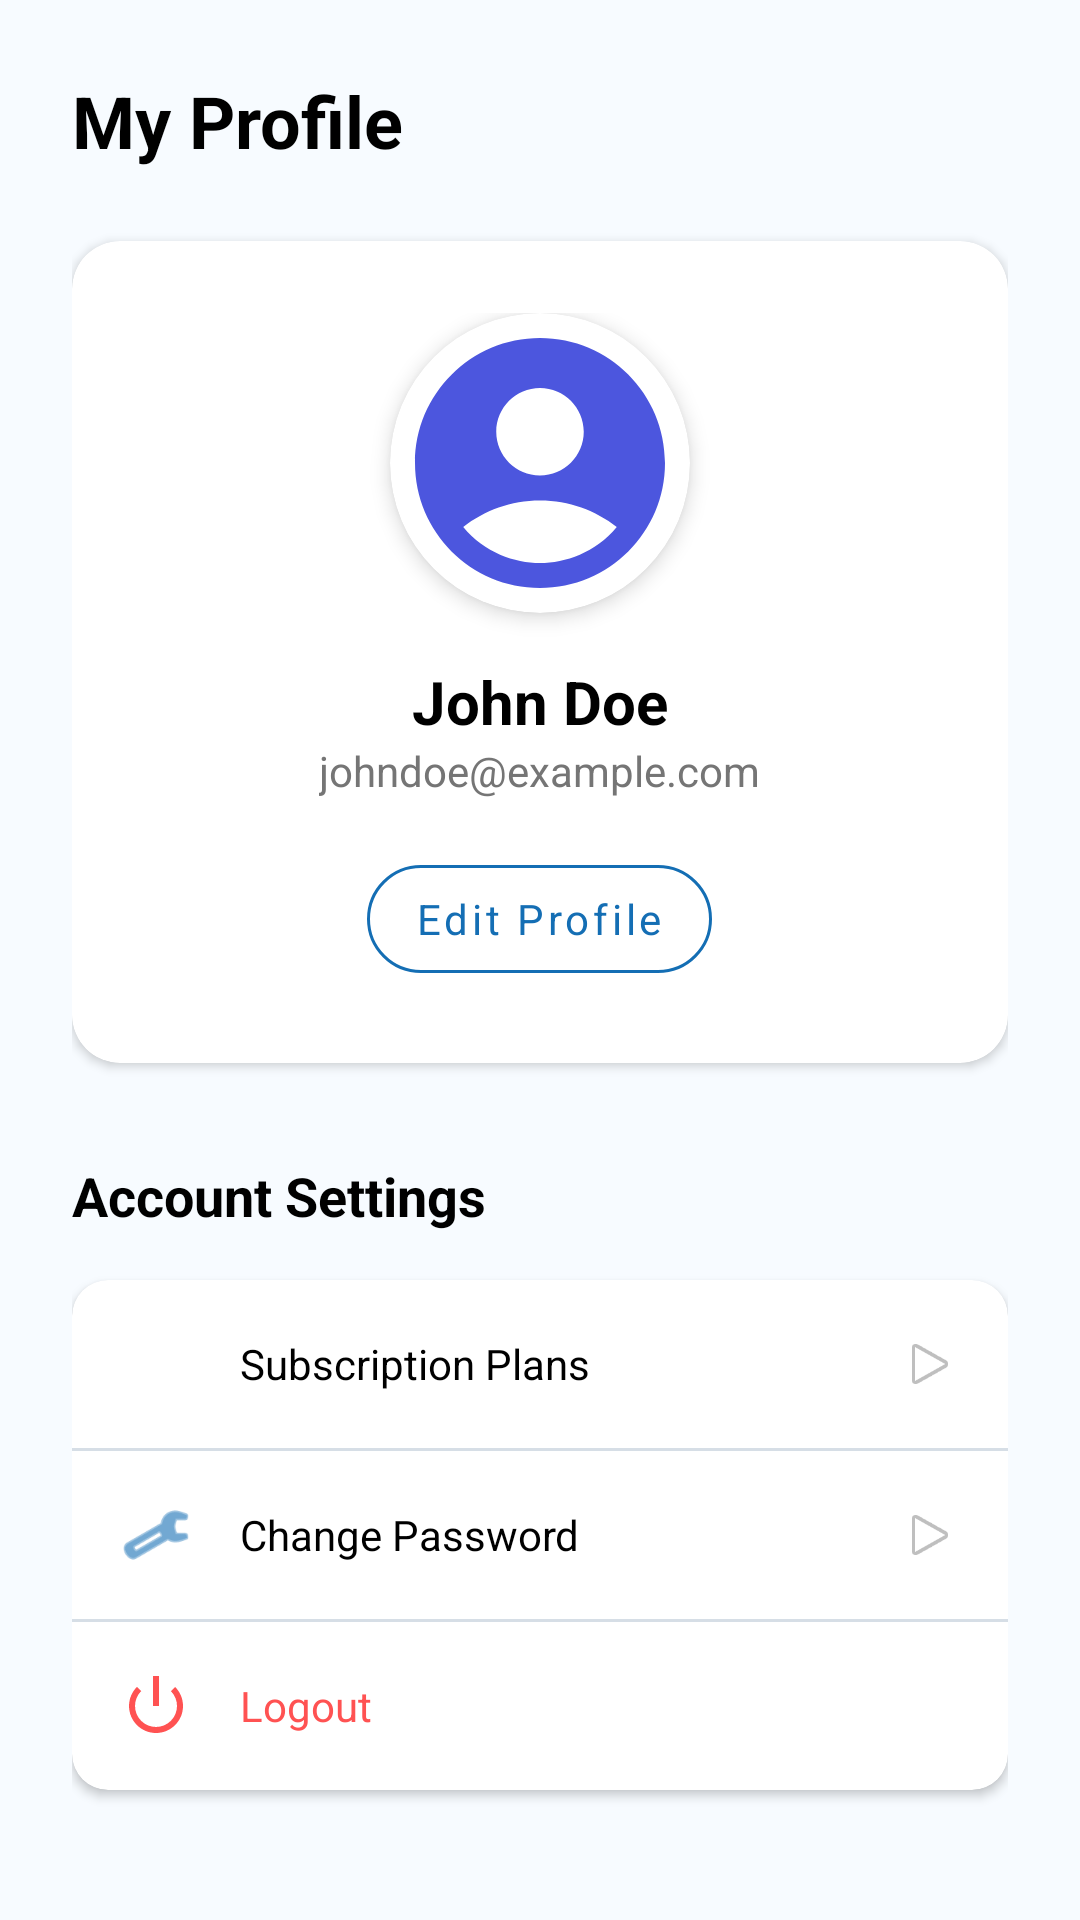

Icon click points for this 1080 x 1920 phone screenshot, format [x,y]:
account circle: [540,475]
lock power off: [156,1704]
play: [930,1364], [930,1535]
preferences: [155,1535]
